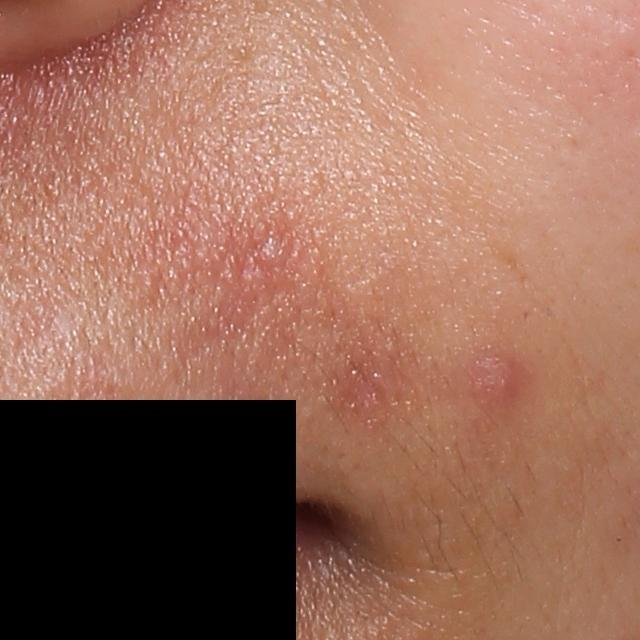papule: (467, 354, 522, 411)
